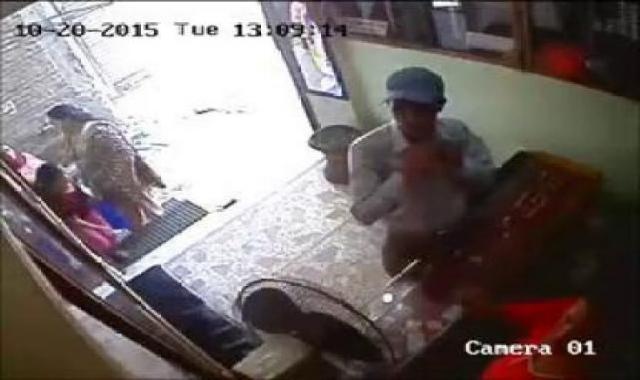no_hairnet: (376, 60, 474, 132)
